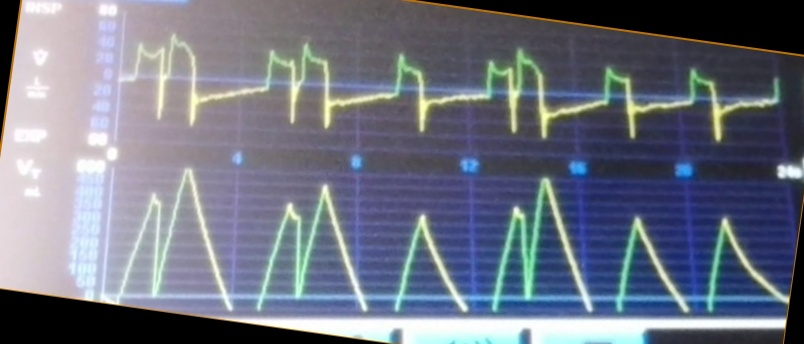Double_Triggering Flow: (121, 30, 724, 139)
Double_Triggering Volume: (116, 168, 725, 312)
